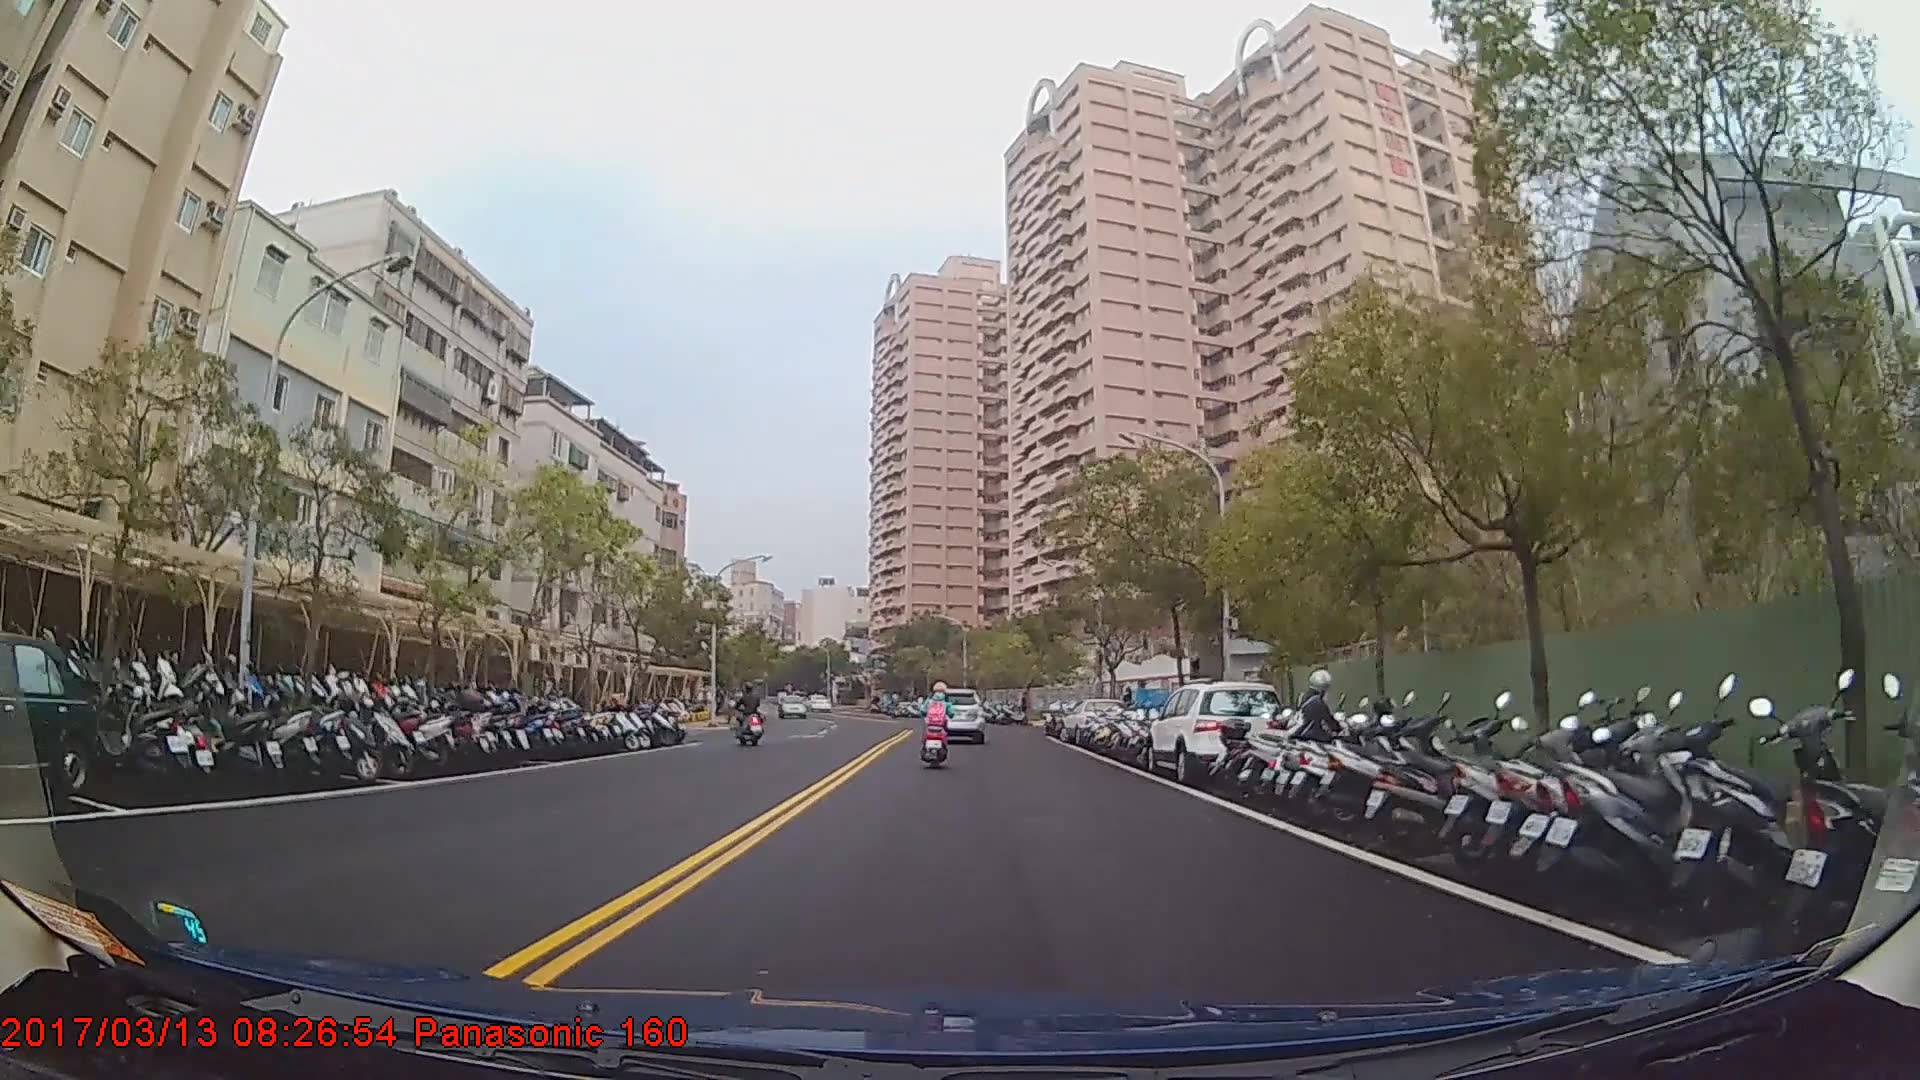rider: (920, 679, 956, 772), (732, 681, 765, 746)
vehicle: (0, 633, 95, 798), (1142, 679, 1286, 783), (1055, 694, 1132, 744), (926, 685, 983, 741), (774, 693, 806, 716)
